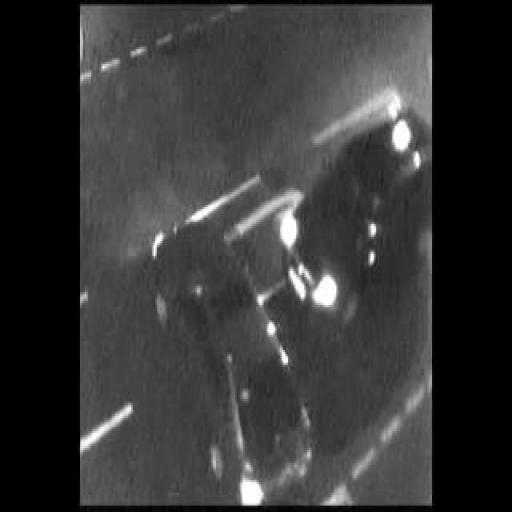Car: (151, 231, 308, 491), (286, 129, 431, 320)
Not Accident: (146, 126, 430, 494)
